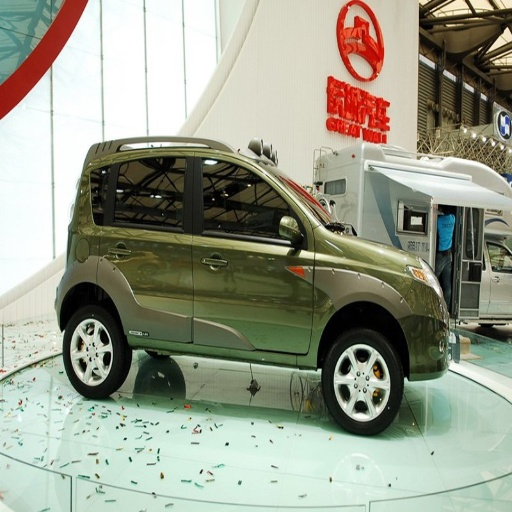front_right_door: (194, 148, 310, 363)
